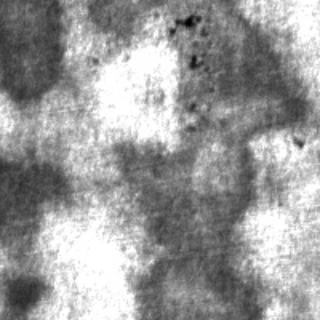patches: (111, 139, 259, 315), (170, 0, 312, 164), (0, 151, 72, 269), (1, 0, 76, 104), (87, 1, 163, 52), (0, 266, 50, 318)
